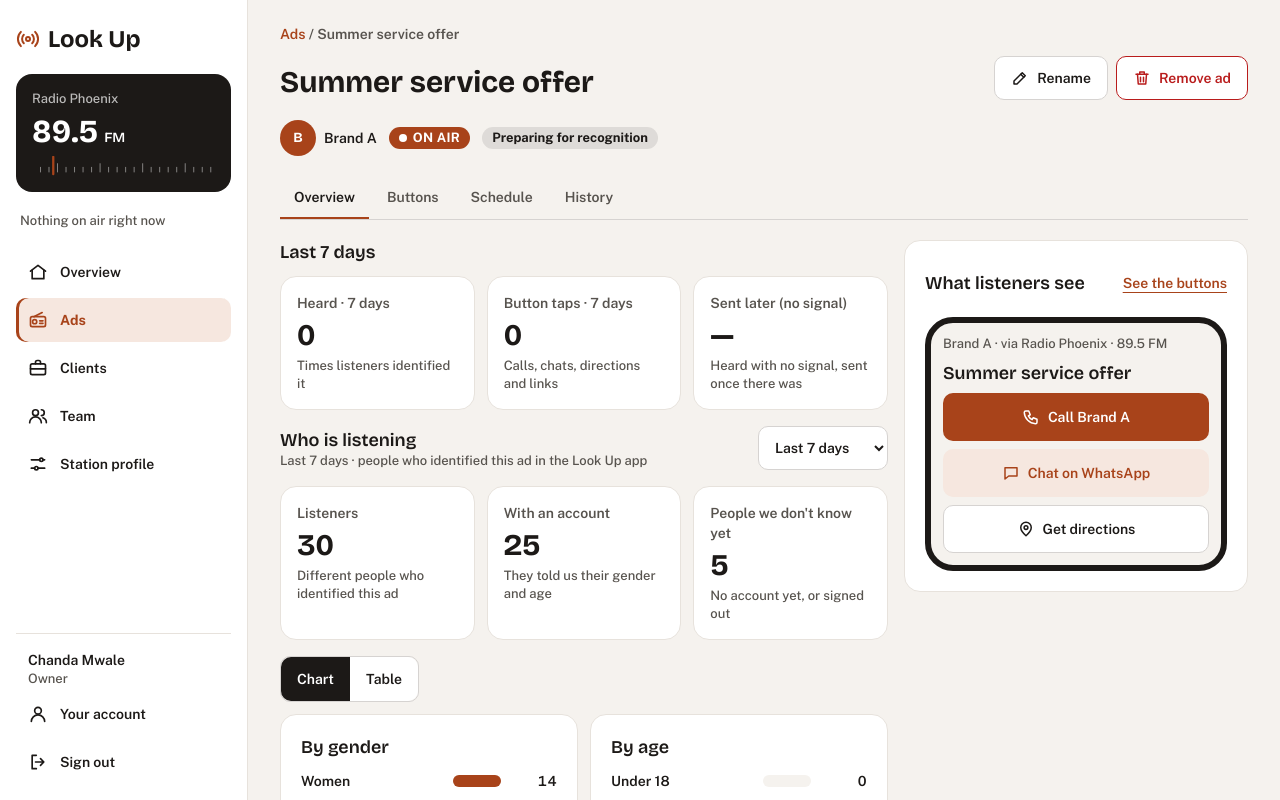
Test case: Who is listening (LA-STATS-07) › on an ad's Overview tab › asks for that ad's listeners over the last 7 days, speaks of this ad, and has its own date choice
Expected: the text "Different people who identified this ad" is shown, [297, 568, 424, 601]
Select "Last 30 days" in the dropdown named "Dates for who is listening" at (823, 448), box [758, 426, 888, 470]
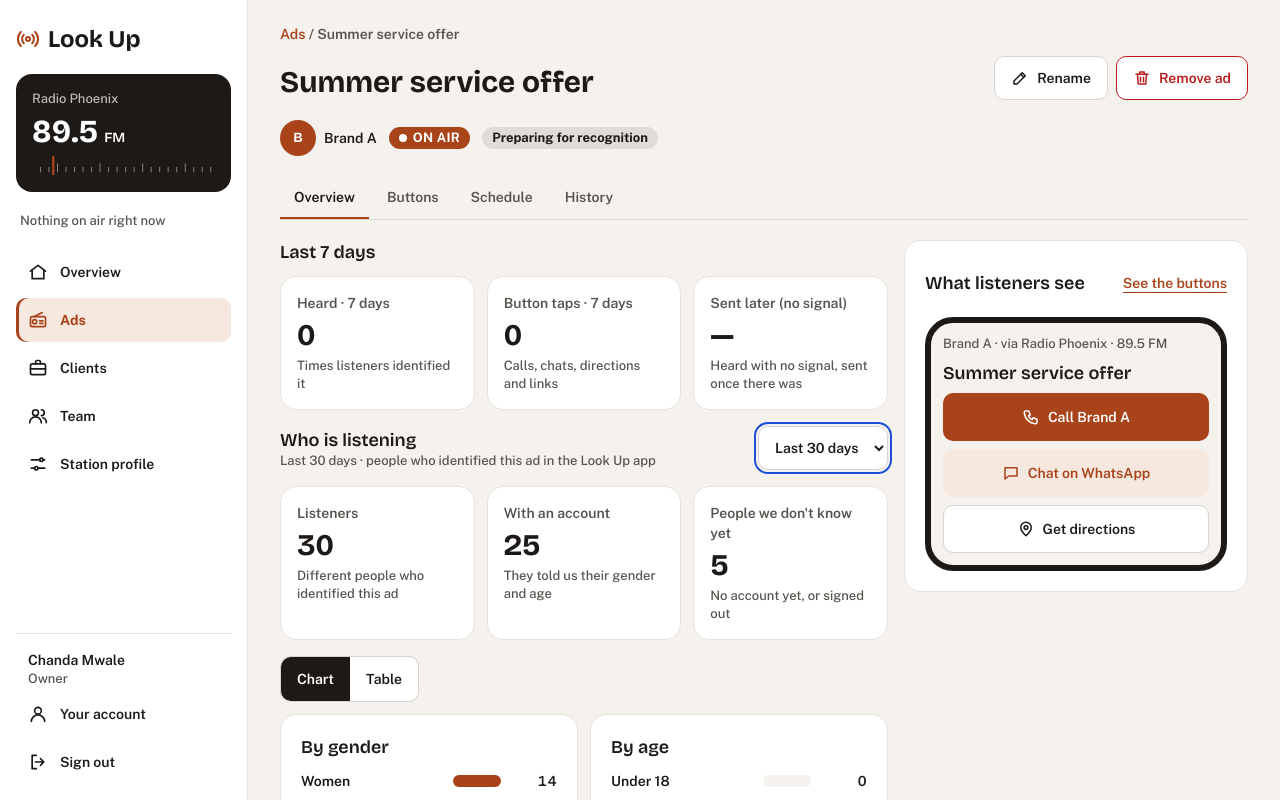
Now the text "Last 30 days ·" is shown, box [280, 453, 656, 468]
